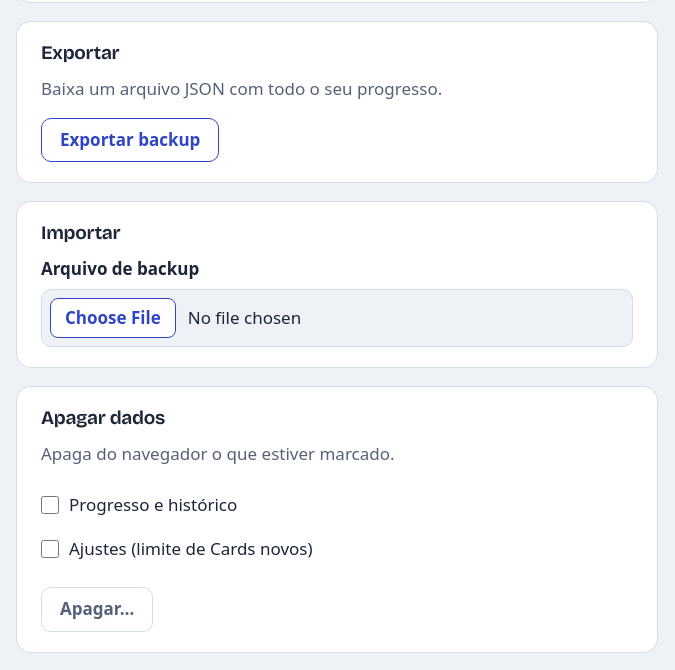
Test: Configuracoes › apagar dados › o botão fica desabilitado sem seleção
The width and height of the screenshot is (675, 670).
(page scrolled)
Expected: the button "Apagar…" is disabled, [41,587,153,632]
Click the checkbox labelled "Progresso e histórico" at {"x": 50, "y": 505}, box [41,496,59,514]
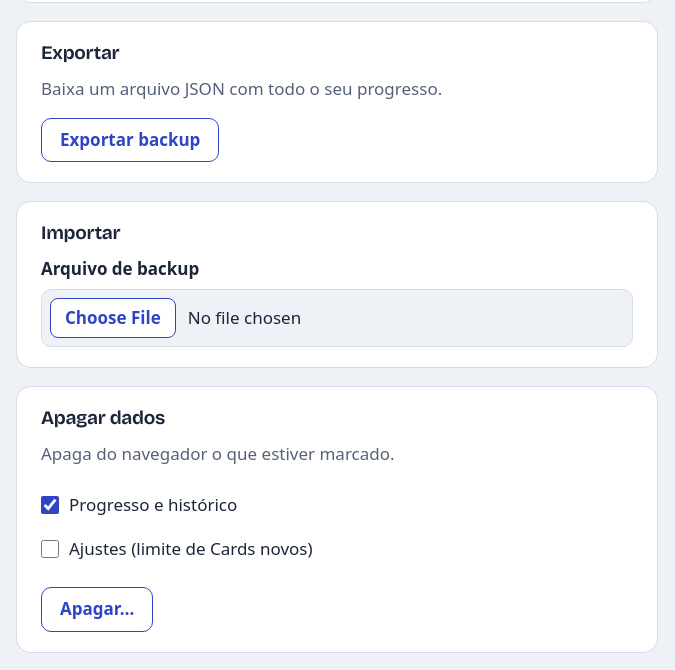
Expected: the button "Apagar…" is enabled, [41,587,153,632]
